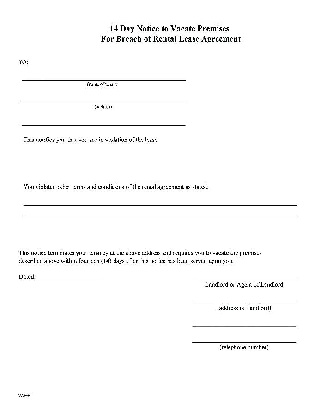textline: (19, 190, 300, 209), (19, 208, 300, 222), (18, 87, 190, 108), (17, 108, 190, 128), (18, 66, 189, 86), (191, 290, 299, 307), (192, 269, 299, 282), (190, 335, 301, 346), (190, 319, 298, 330), (35, 271, 104, 283)
